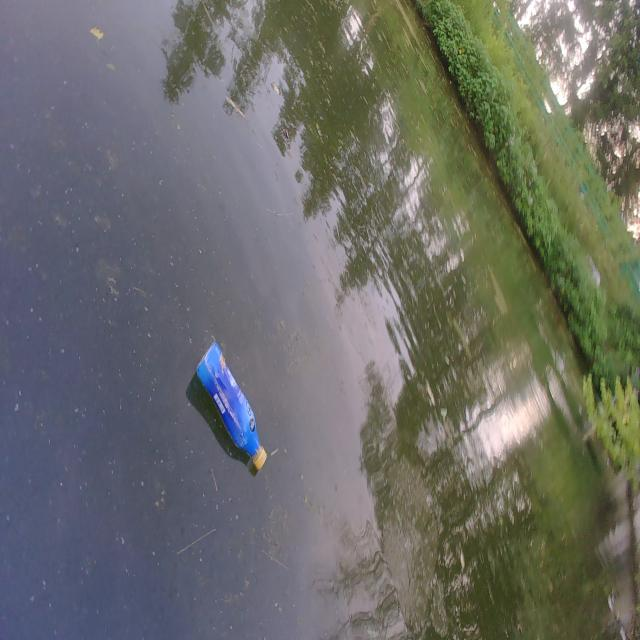Bottle: (195, 336, 269, 471)
